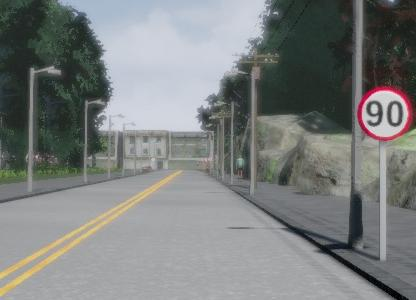Speed_90: (355, 83, 414, 140)
